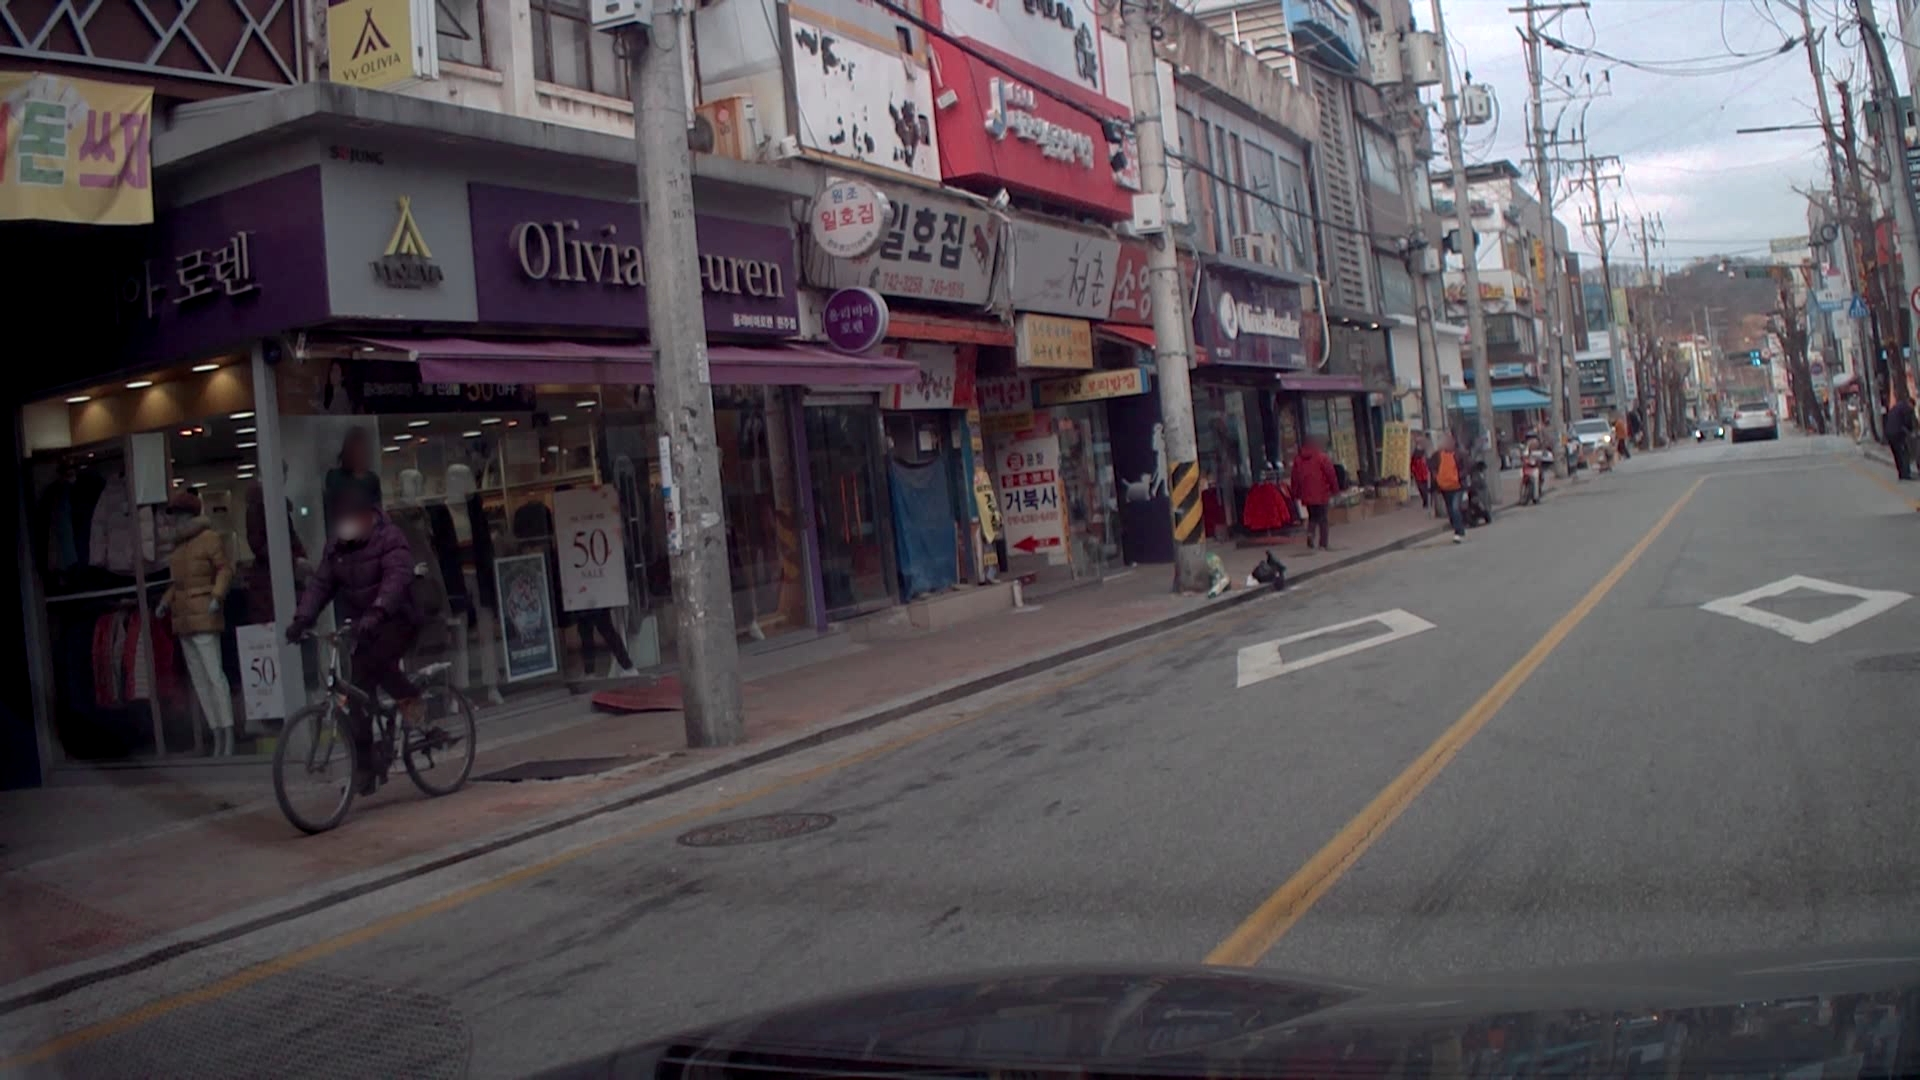trafficLight: (1745, 357, 1774, 368)
trafficSignTri: (1849, 309, 1863, 323)
